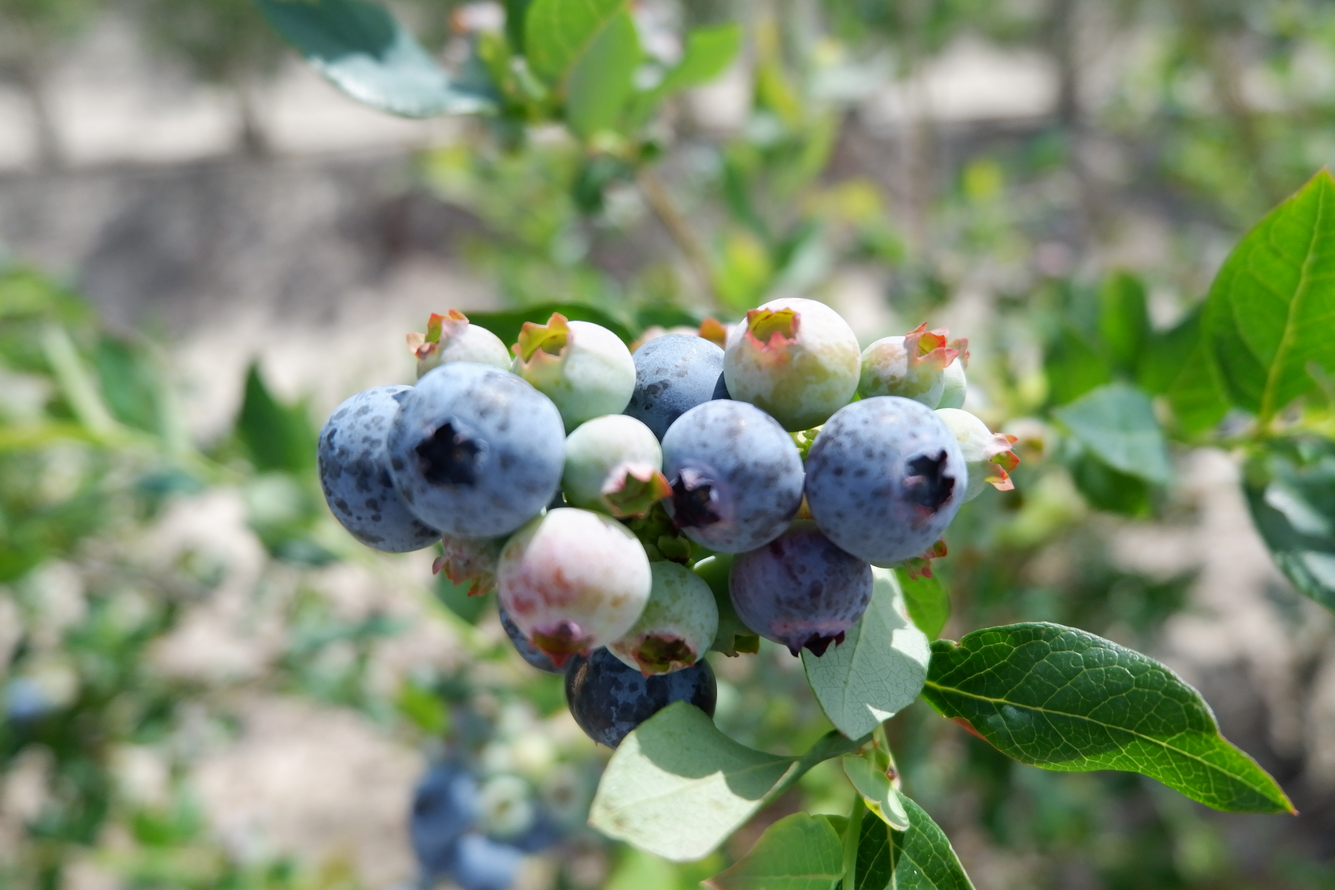Immature: (498, 513, 647, 661), (725, 302, 860, 427), (518, 317, 631, 429), (612, 564, 716, 673), (563, 417, 661, 518), (862, 329, 951, 405), (410, 313, 510, 380), (691, 553, 757, 654), (944, 410, 1017, 500), (437, 538, 504, 593), (937, 336, 969, 408)
Mature: (392, 366, 561, 536), (810, 400, 962, 561), (663, 404, 800, 552), (318, 387, 435, 548), (731, 518, 872, 651), (567, 647, 715, 745), (628, 332, 725, 439), (498, 597, 564, 669)
